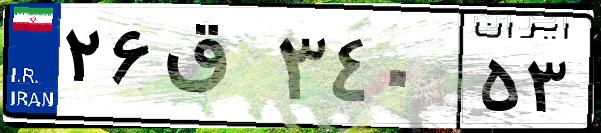0: (385, 28, 445, 110)
2: (57, 26, 110, 100)
3: (270, 28, 330, 110), (525, 38, 570, 115)
4: (330, 28, 385, 110)
5: (475, 38, 525, 113)
6: (110, 28, 158, 98)
ق: (158, 20, 270, 120)
